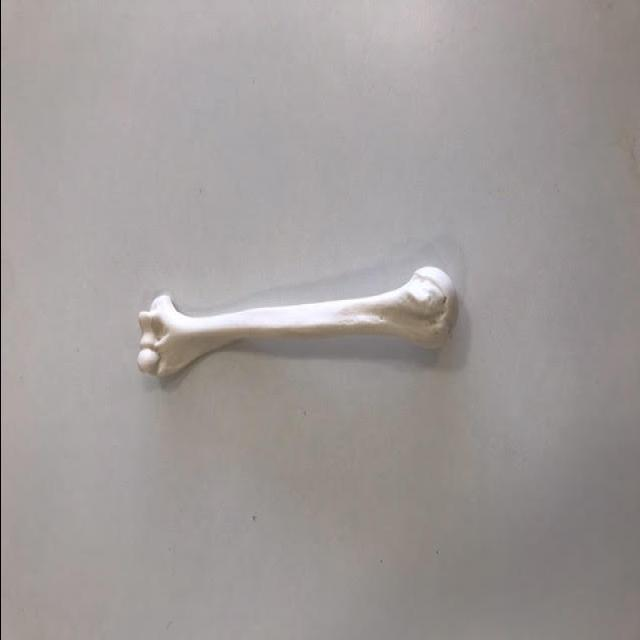bone: (133, 259, 466, 385)
